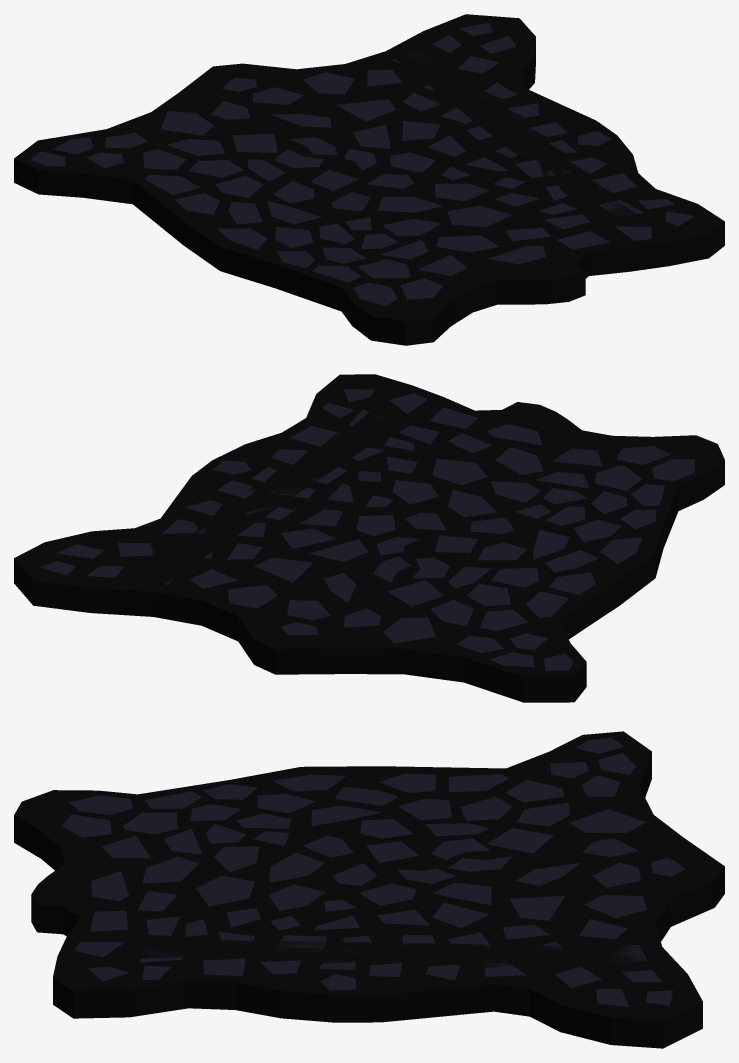
Rendered from Hide 02.fbx.
The picture shows the model from 3 angles, top to bottom: view 1: azimuth 30°, elevation 25°; view 2: azimuth 150°, elevation 25°; view 3: azimuth 270°, elevation 25°; orthographic projection. The views are drawn at different scales.
Parts seen in each view (by area): view 1: Hide 02; view 2: Hide 02; view 3: Hide 02.
Part boxes in pixels (<box>): Hide 02: <box>14,14,724,345</box>; Hide 02: <box>14,374,724,702</box>; Hide 02: <box>14,731,724,1048</box>.
Size of the model in its own units: 104 by 4.61 by 108.
